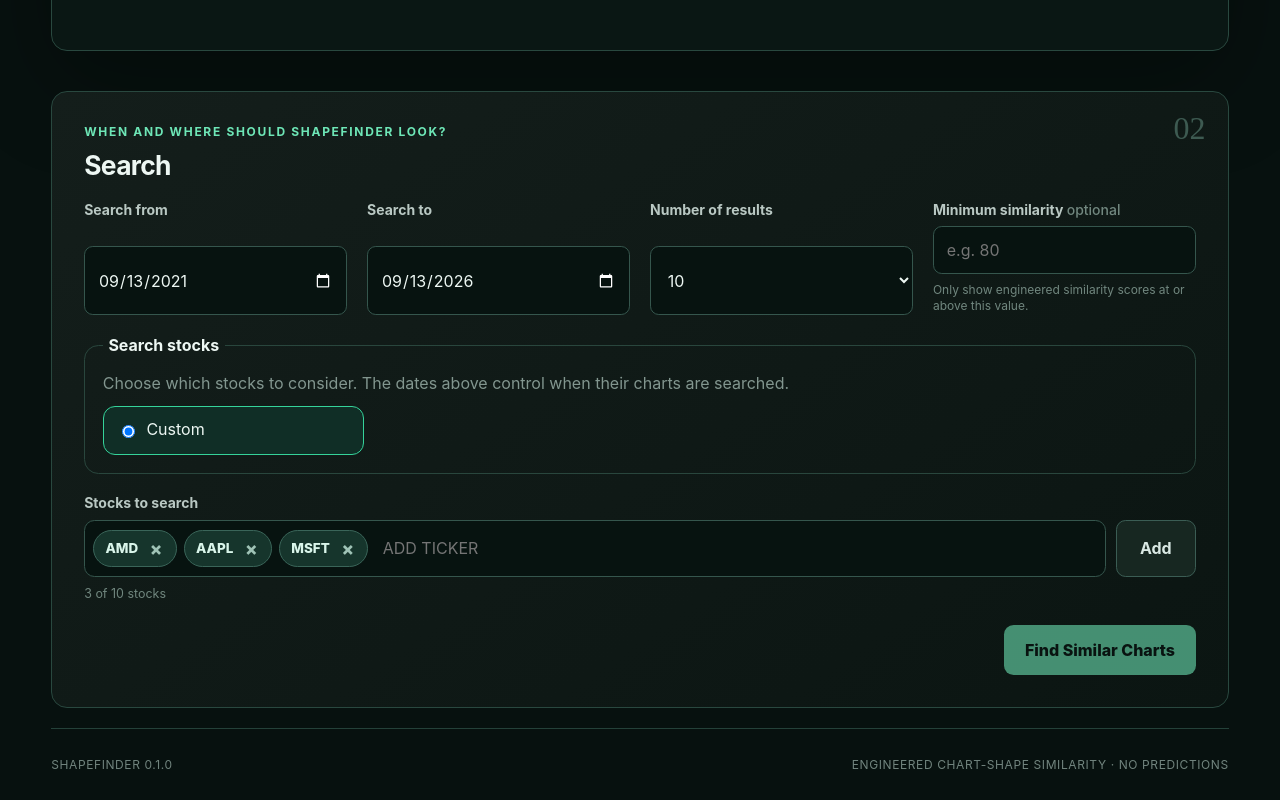
Test: candidate symbol controls › adds with Enter, normalizes whitespace/casing, prevents duplicates, and removes
(page scrolled)
Step 1. Type "  avgo  " into the field labelled "Stocks to search" → coordinates (736, 548), box [376,529,1097,568]
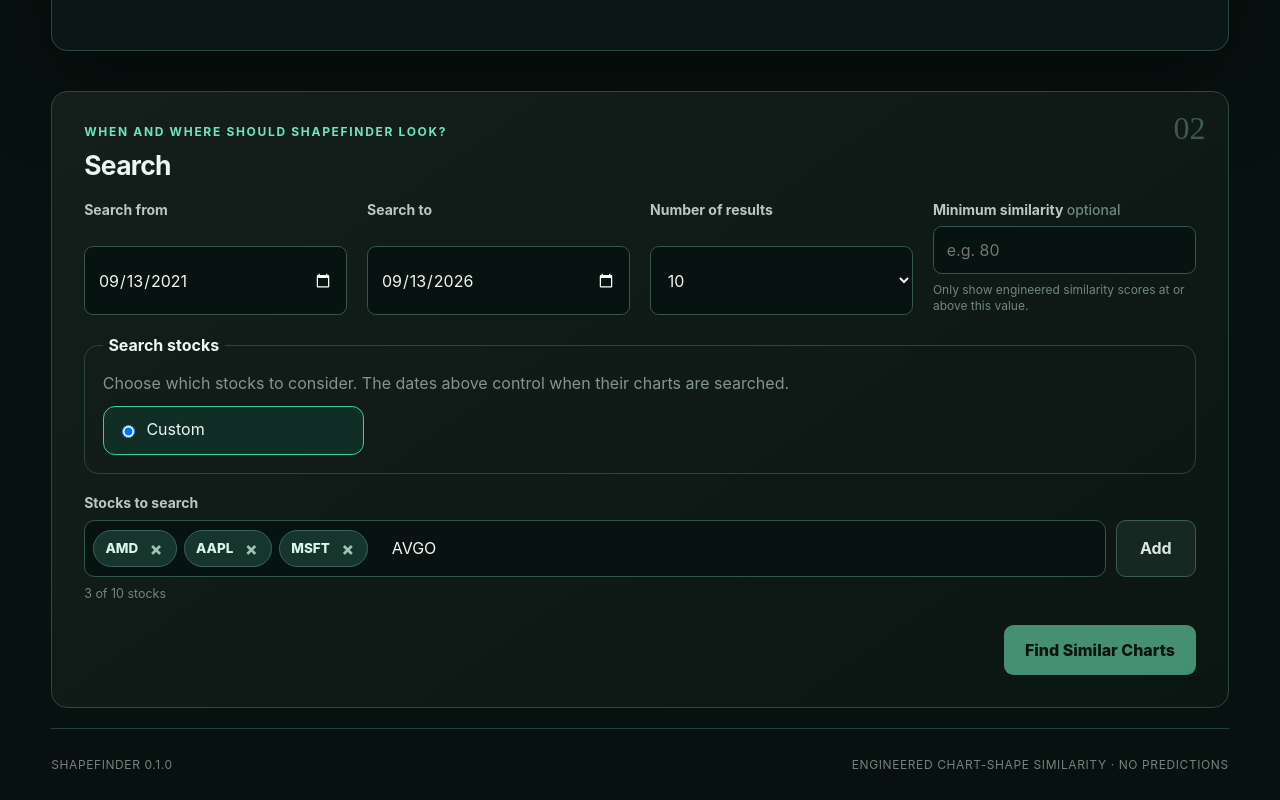
Step 2. Press Enter in the field labelled "Stocks to search", box [376,529,1097,568]
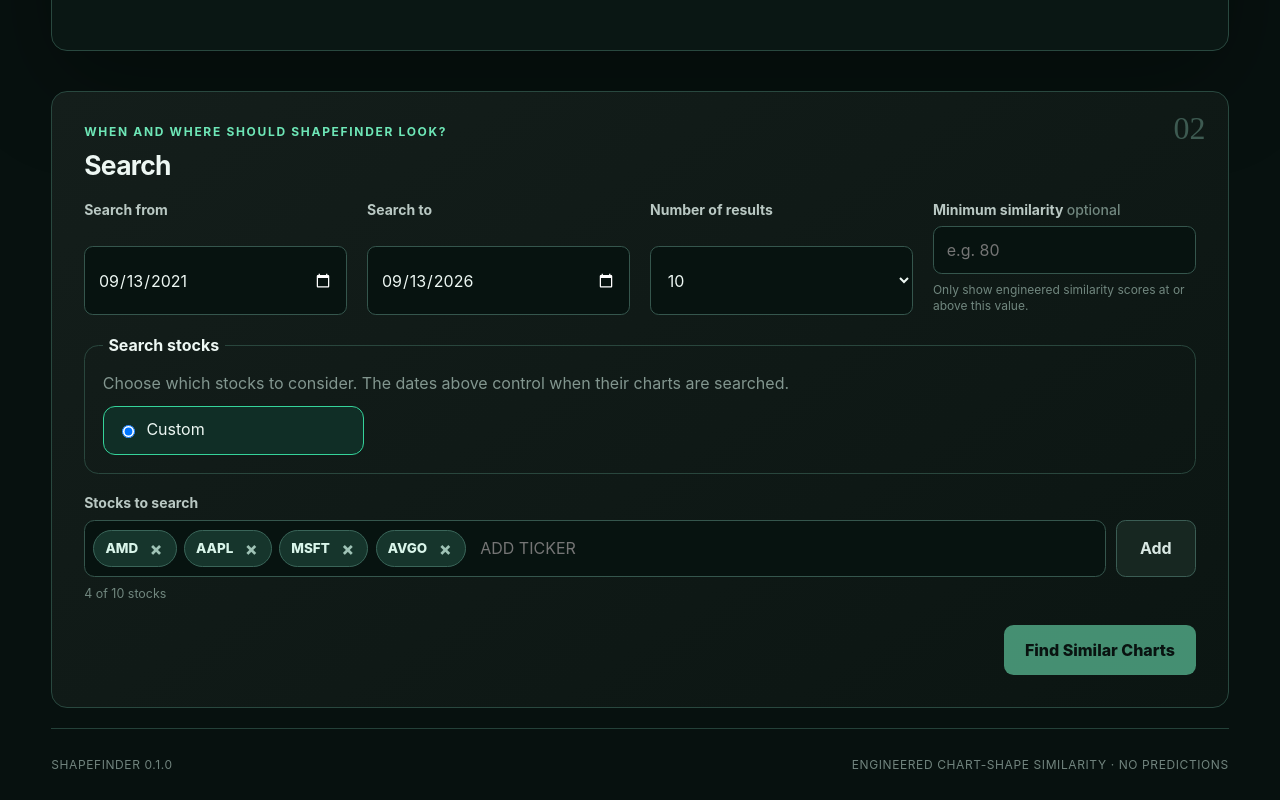
expect the button named "Remove AVGO" is shown: met, box [433,536,458,561]
Step 3. Type "avgo" into the field labelled "Stocks to search" → coordinates (785, 548), box [473,529,1097,568]
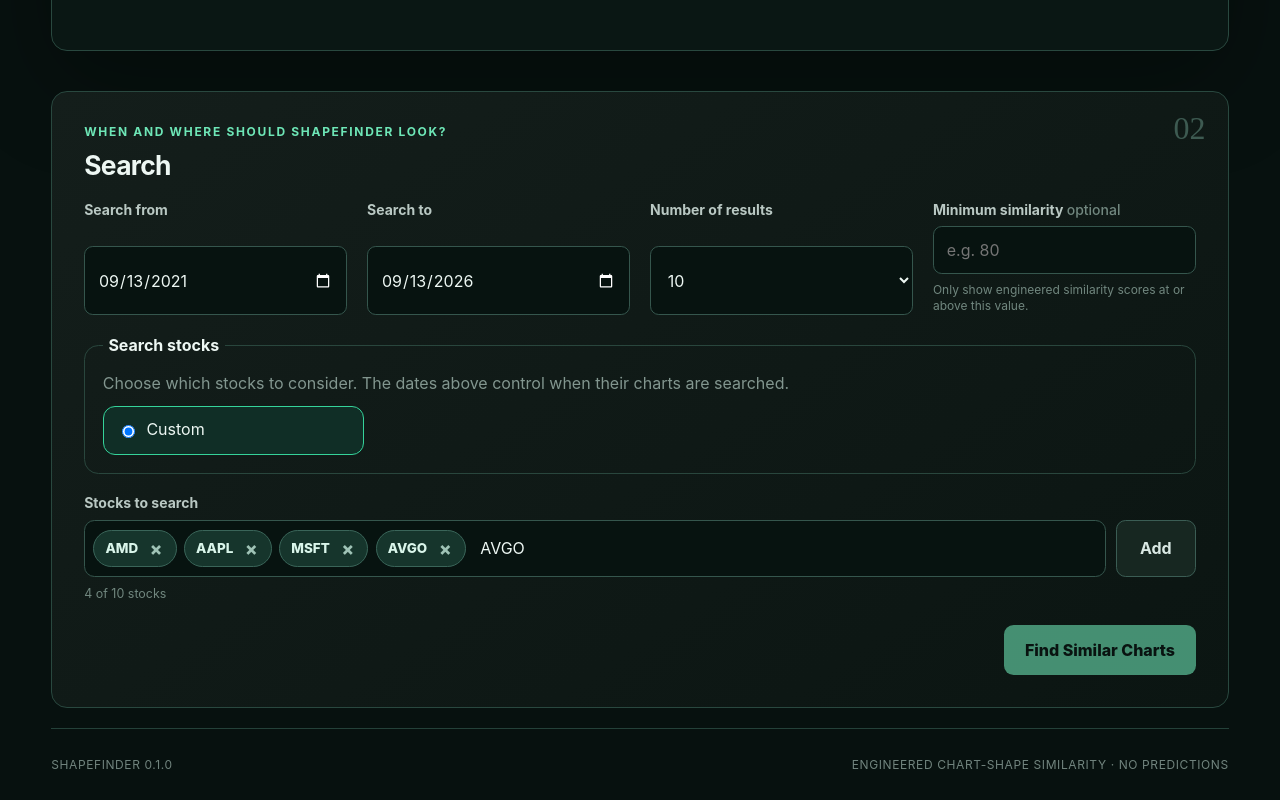
Step 4. Press Enter in the field labelled "Stocks to search", box [473,529,1097,568]
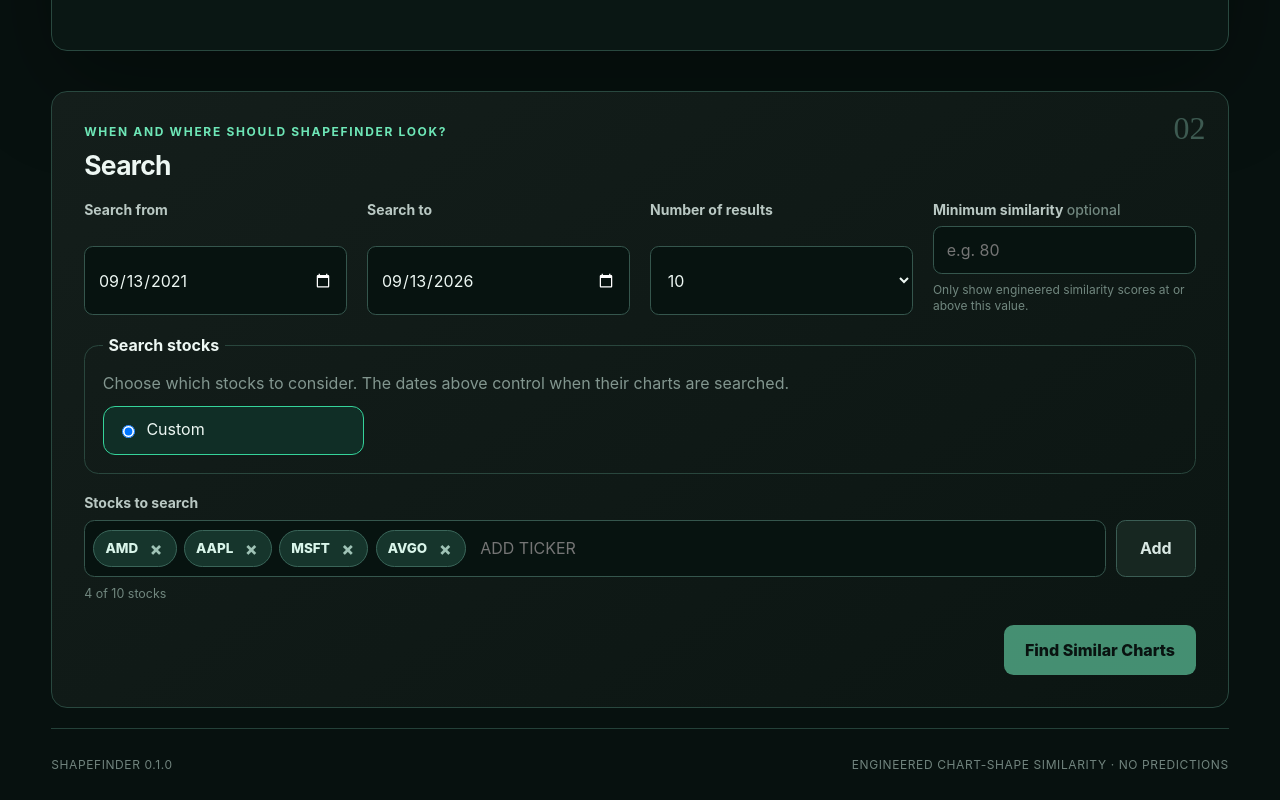
expect the text "AVGO" is shown once: met, box [376,530,466,566]
Step 5. Click the button named "Remove AVGO" → coordinates (445, 548), box [433,536,458,561]
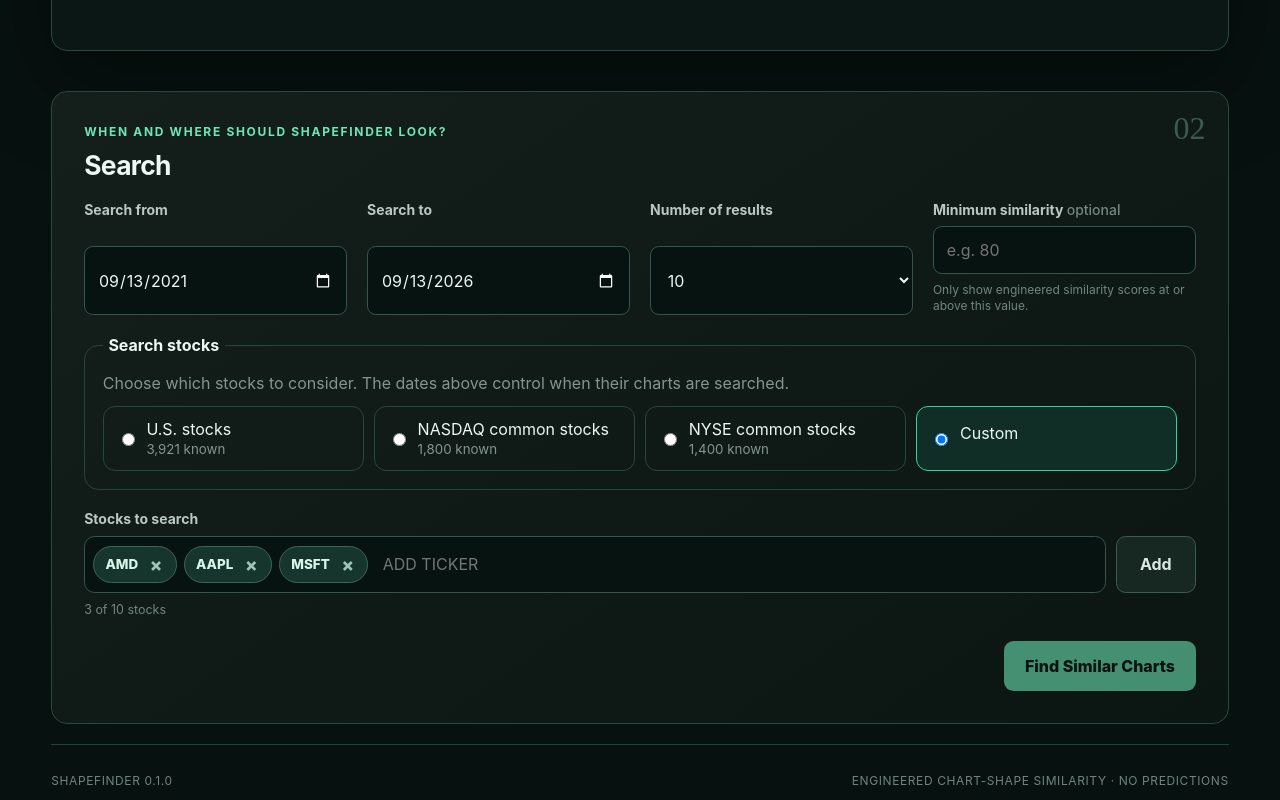
expect the text "AVGO" is gone: met
